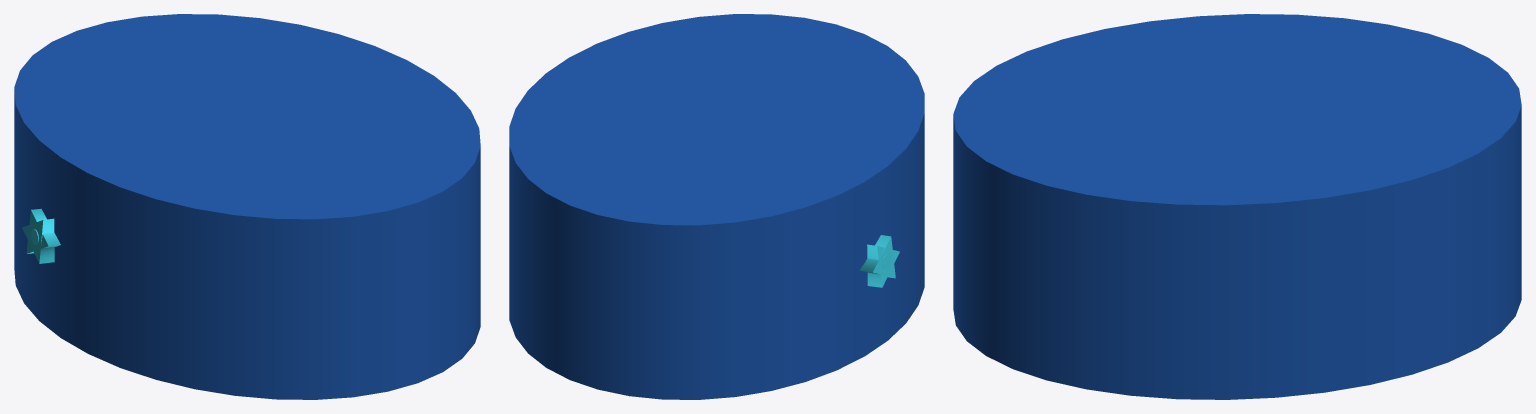
The model's file is blue.FBX.
3 renders of one model, left to right at view 1: azimuth 30°, elevation 25°; view 2: azimuth 150°, elevation 25°; view 3: azimuth 270°, elevation 25°, orthographic. The views are drawn at different scales.
Visible parts, largest first — view 1: Cylinder002; view 2: Cylinder002; view 3: Cylinder002.
Boxes of the visible parts, x1,y1,x2,y2 form: Cylinder002: (14, 14, 480, 399); Cylinder002: (509, 14, 924, 399); Cylinder002: (953, 14, 1521, 399).
Size of the model in its own units: 32.93 by 15.02 by 39.74.
